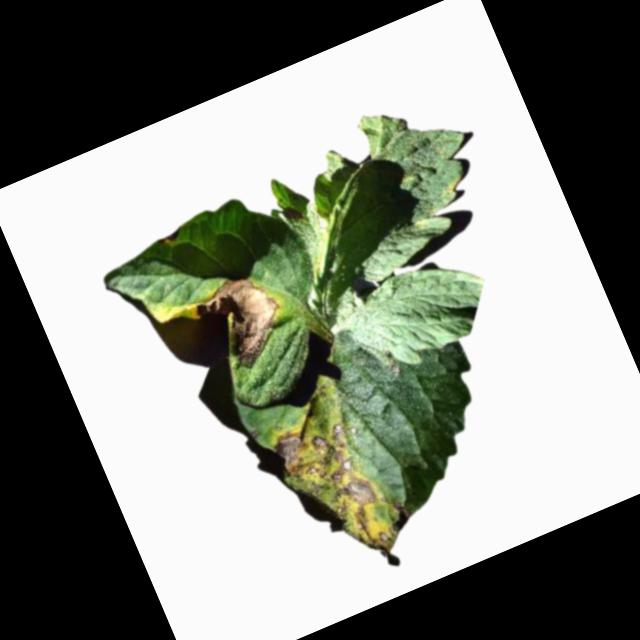Early_blight: (266, 397, 421, 580), (184, 266, 298, 382), (281, 203, 304, 228), (157, 226, 184, 247)
